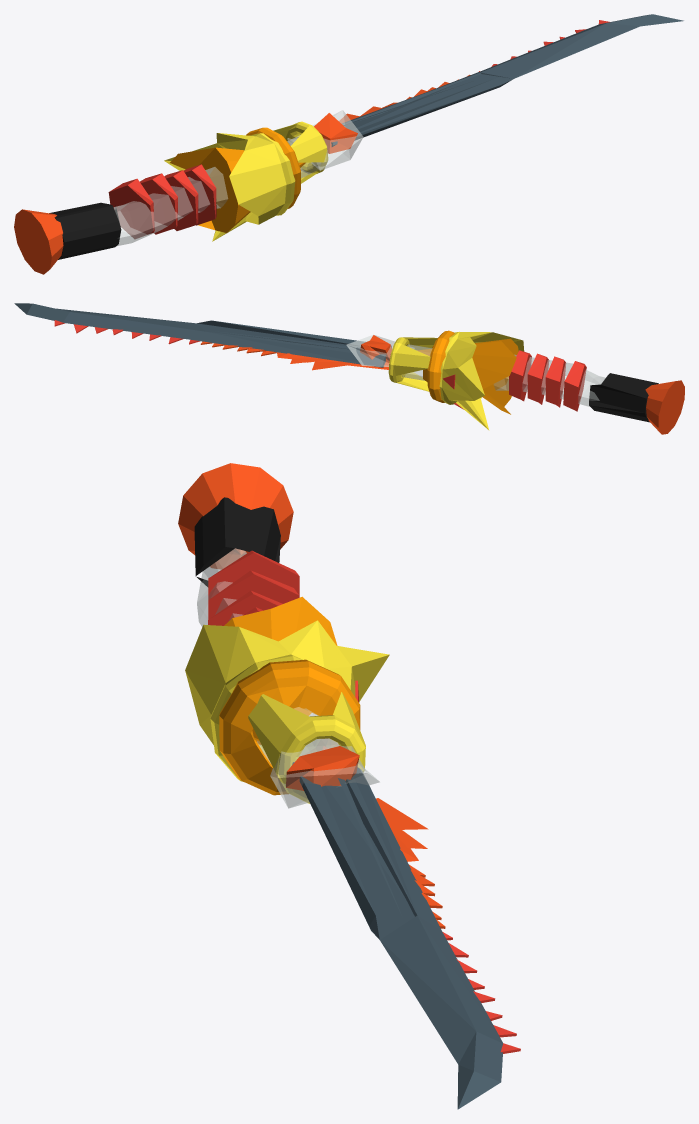
File: objects-diamond-demon-sword-256.glb
3 views of the same model, one above another, from view 1: azimuth 30°, elevation 25°; view 2: azimuth 150°, elevation 25°; view 3: azimuth 270°, elevation 25° (orthographic). The views are drawn at different scales.
Visible parts, largest first — view 1: group248953503, group1495978517, group106416915, group1896458981, group217324357, group17703554, group514186056, group1185655071, group495982987, group5330726, group938924934, group1856697770 (+2 smaller); view 2: group248953503, group1495978517, group217324357, group1896458981, group1185655071, group17703554, group106416915, group943871189, group514186056, group5330726, group1856697770, group495982987 (+5 smaller); view 3: group248953503, group1495978517, group943871189, group1185655071, group17703554, group1896458981, group938924934, group217324357, group1769230140, group514186056, group495982987, group106416915 (+1 smaller).
Boxes of the visible parts, x1,y1,x2,y2 form: group248953503: (331,14,683,146); group1495978517: (164,133,295,241); group106416915: (114,167,227,245); group1896458981: (49,202,121,259); group217324357: (170,147,305,232); group17703554: (14,209,63,274); group514186056: (108,178,154,238); group1185655071: (273,121,328,183); group495982987: (140,173,177,234); group5330726: (164,170,198,230); group938924934: (287,110,363,170); group1856697770: (183,164,216,225); group248953503: (14,303,391,367); group1495978517: (439,331,524,430); group217324357: (417,338,518,414); group1896458981: (589,373,658,422); group1185655071: (388,337,437,391); group17703554: (645,380,684,434); group106416915: (494,354,605,406); group943871189: (423,330,454,402); group514186056: (563,361,586,411); group5330726: (527,353,548,404); group1856697770: (509,350,531,401); group495982987: (545,356,565,407); group248953503: (292,762,502,1109); group1495978517: (185,620,389,781); group943871189: (219,659,360,795); group1185655071: (248,692,365,803); group17703554: (178,463,293,569); group1896458981: (194,497,280,586); group938924934: (270,739,379,808); group217324357: (224,596,337,744); group1769230140: (286,746,359,790); group514186056: (208,550,299,599); group495982987: (208,570,299,619); group106416915: (197,548,246,626).
Size of the model in its own units: 2.65 by 0.3597 by 0.6487.
